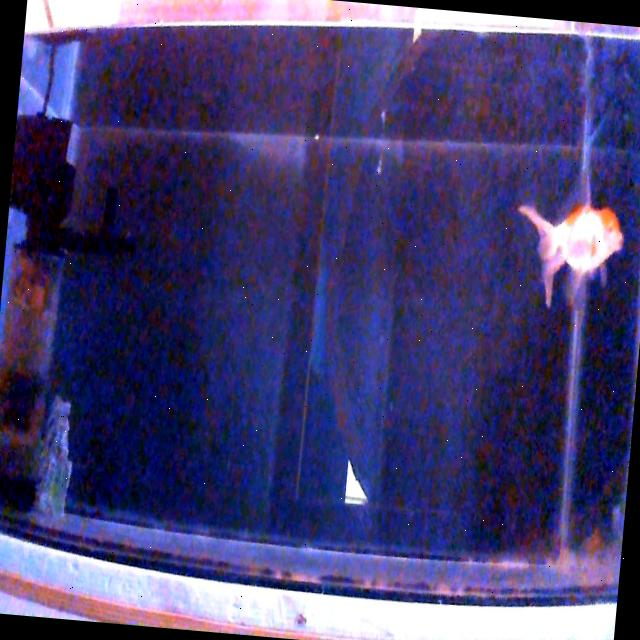fish: (519, 204, 622, 306)
